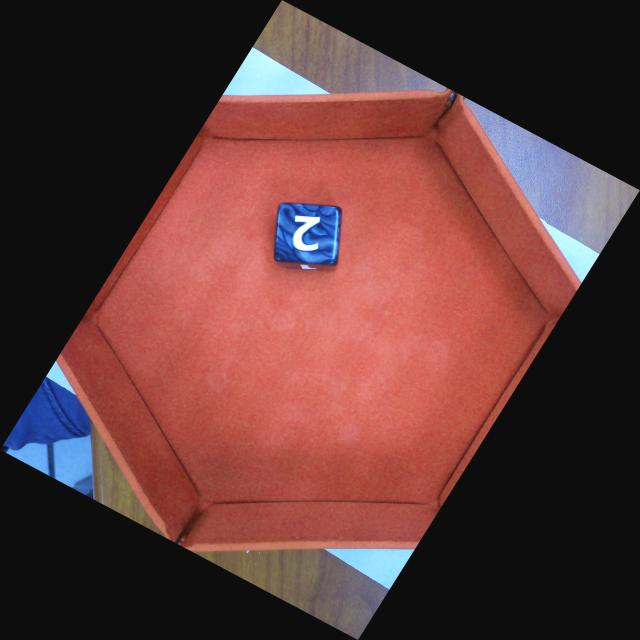dice: (274, 204, 341, 261)
